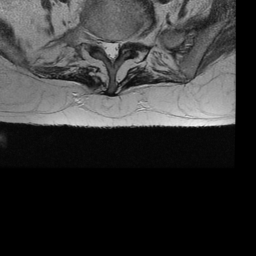CCS_normal: (108, 31, 115, 70)
LFS_stenosis: (123, 31, 130, 51)
LLS_normal: (115, 31, 122, 64)
RFS_normal: (93, 28, 101, 55)
RLS_normal: (101, 33, 108, 62)
